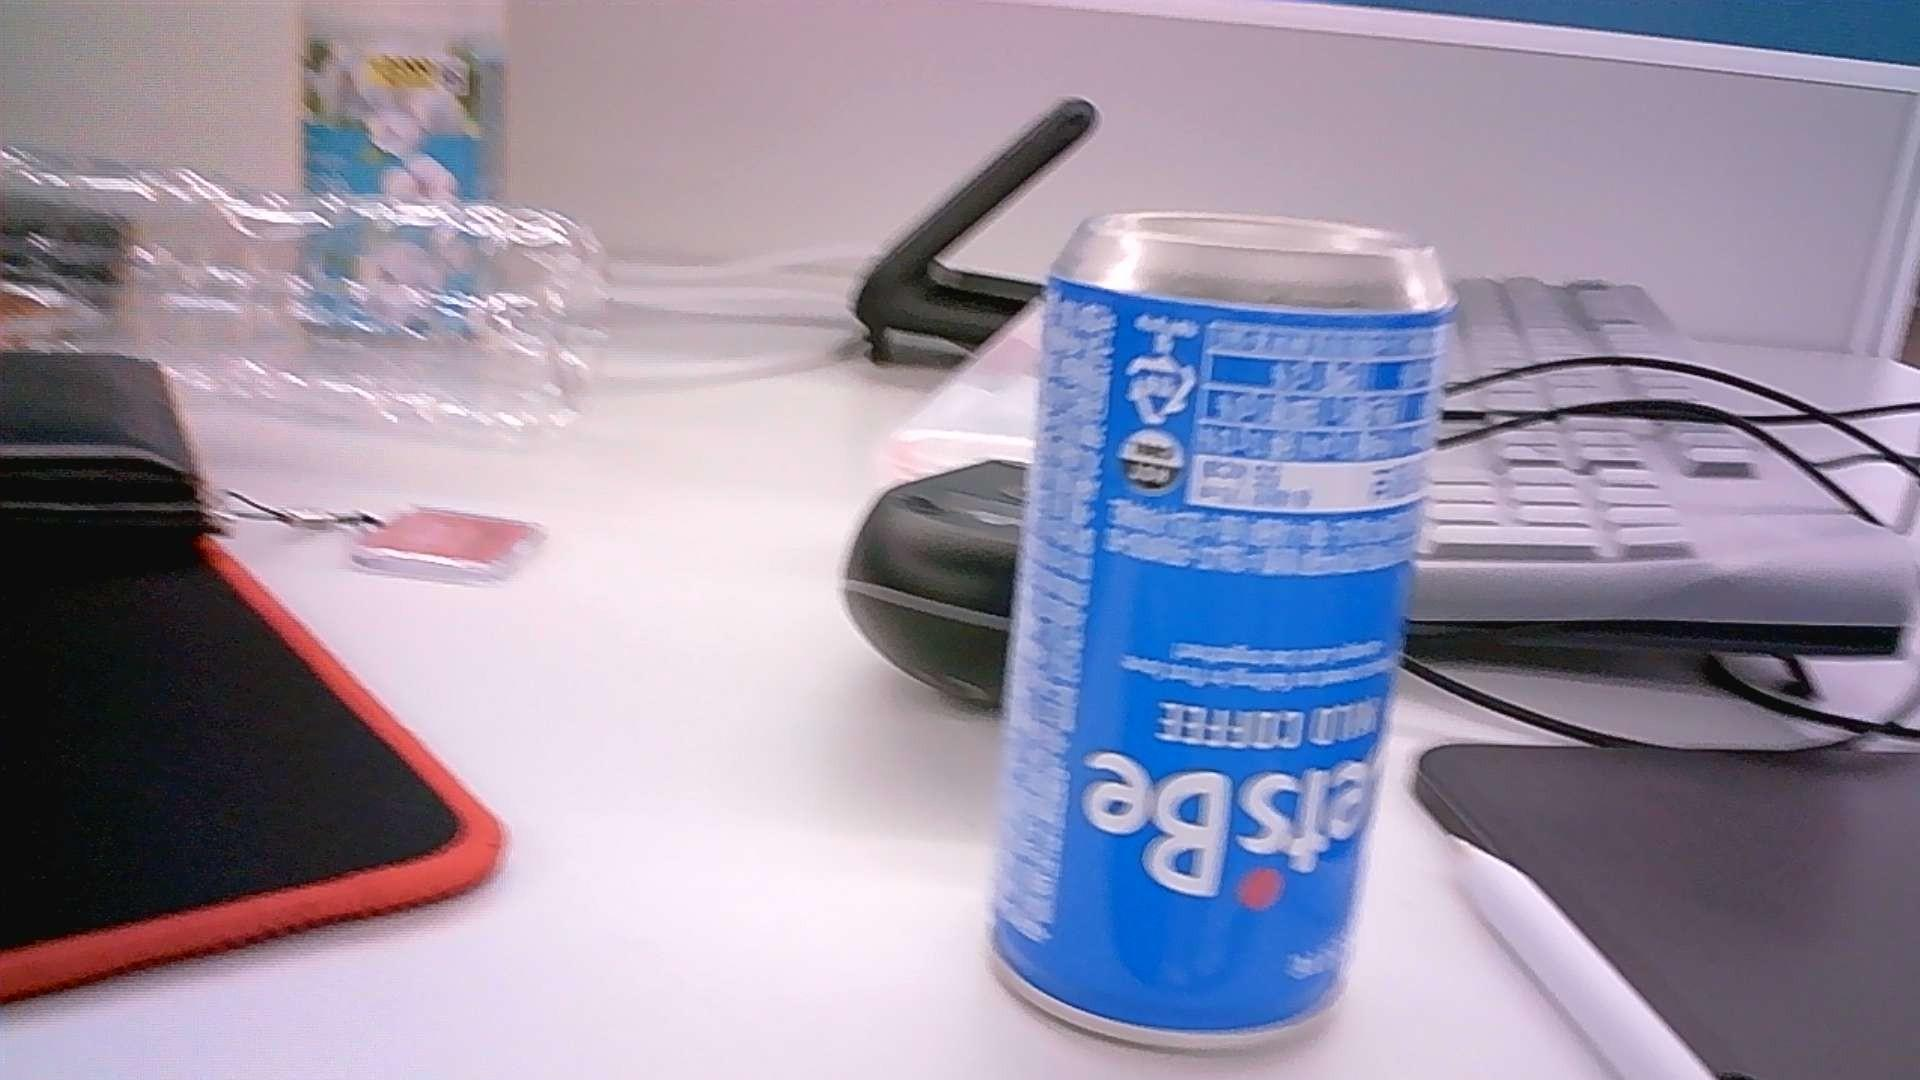letsbe: (981, 207, 1457, 1051)
